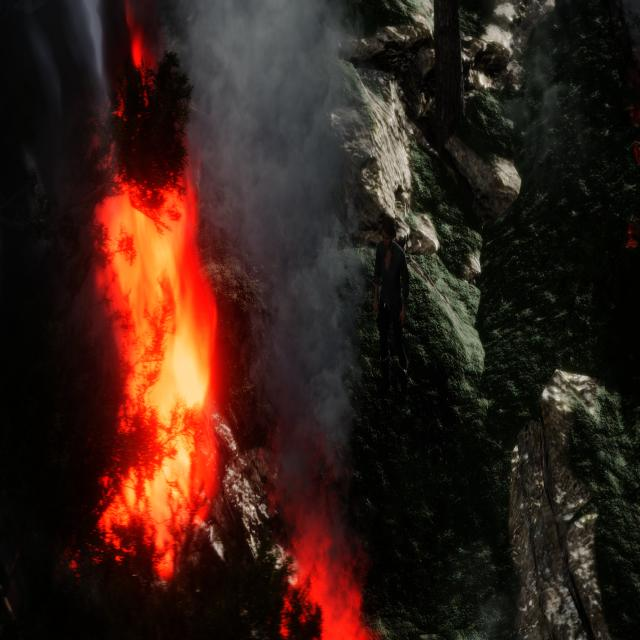Human: (366, 211, 411, 414)
